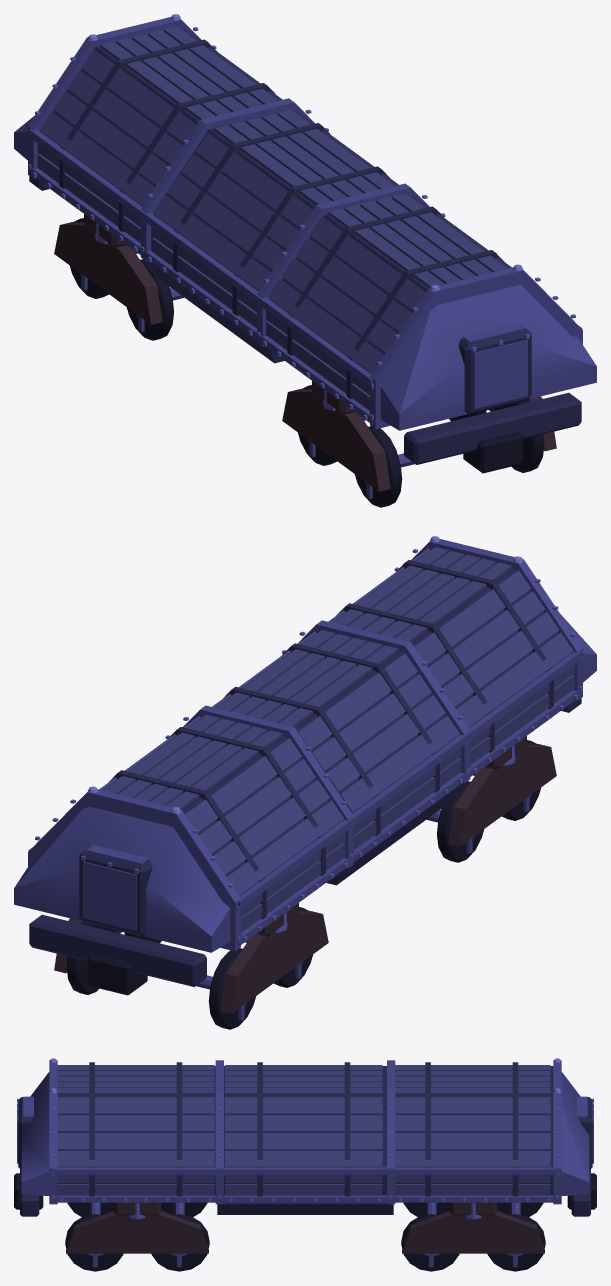
The model's file is infinity-cargo-wagon.glb.
3 renders of one model, top to bottom at view 1: azimuth 30°, elevation 25°; view 2: azimuth 150°, elevation 25°; view 3: azimuth 270°, elevation 25°, orthographic. The views are drawn at different scales.
Parts seen in each view (by area): view 1: body, anim_wheel_rail, anim_wheel_rail.002, anim_wheel_rail.001; view 2: body, anim_wheel_rail.003, anim_wheel_rail.001, anim_wheel_rail.002; view 3: body, anim_wheel_rail, anim_wheel_rail.001, anim_wheel_rail.002, anim_wheel_rail.003.
Part boxes in pixels (bbox=[...]): body: bbox=[14, 14, 596, 491]; anim_wheel_rail: bbox=[355, 399, 544, 507]; anim_wheel_rail.002: bbox=[127, 259, 184, 340]; anim_wheel_rail.001: bbox=[298, 385, 486, 465]; body: bbox=[14, 536, 596, 1013]; anim_wheel_rail.003: bbox=[66, 921, 255, 1029]; anim_wheel_rail.001: bbox=[426, 781, 483, 862]; anim_wheel_rail.002: bbox=[124, 907, 312, 987]; body: bbox=[14, 1058, 596, 1253]; anim_wheel_rail: bbox=[65, 1202, 123, 1271]; anim_wheel_rail.001: bbox=[151, 1202, 209, 1271]; anim_wheel_rail.002: bbox=[401, 1202, 459, 1271]; anim_wheel_rail.003: bbox=[487, 1202, 545, 1271].
Bounding box in the file's own units: 2.15 × 2.25 × 6.94.
